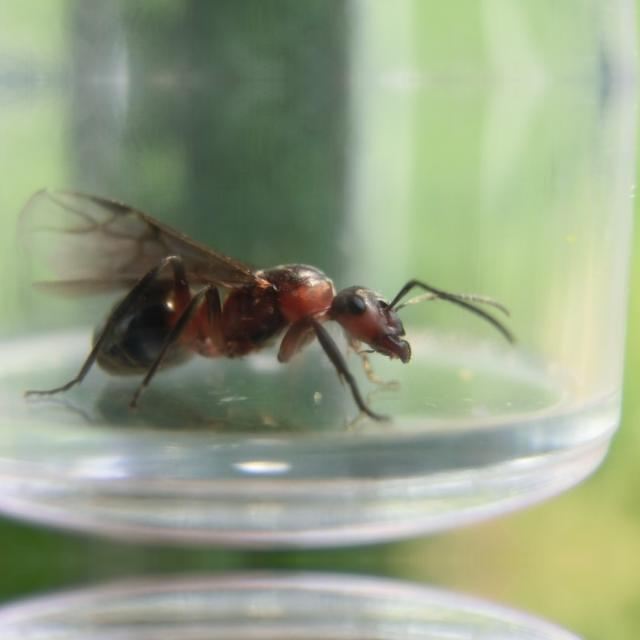Formica: (56, 174, 470, 438)
